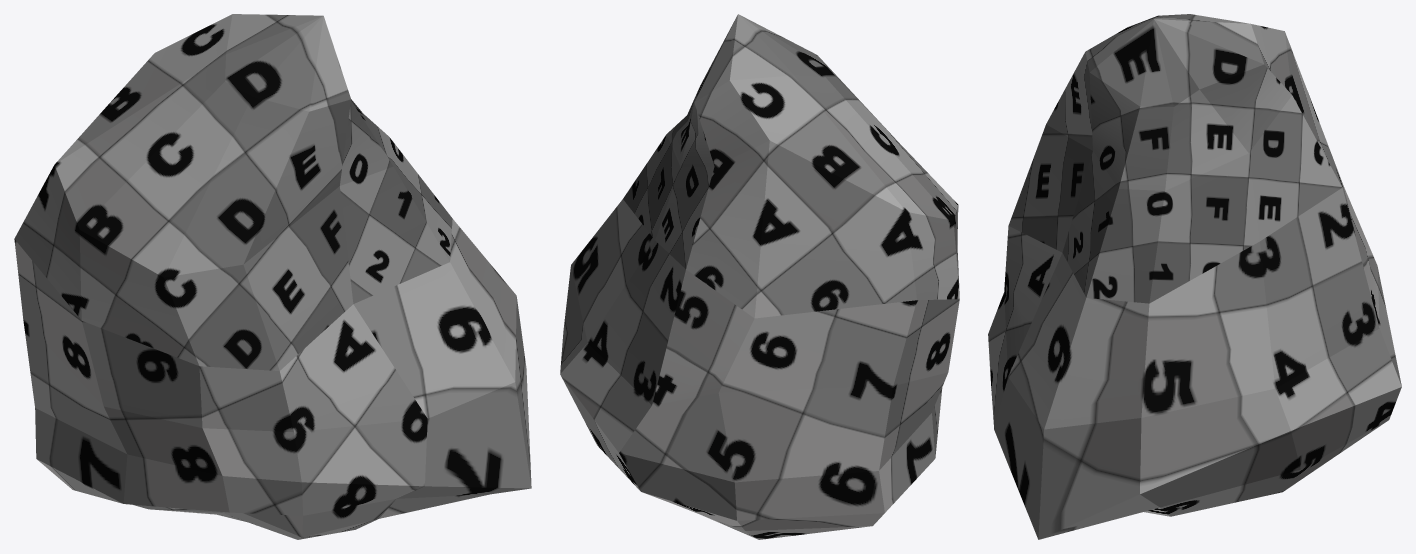
File: Rock1.fbx
The picture shows the model from 3 angles, left to right: view 1: azimuth 30°, elevation 25°; view 2: azimuth 150°, elevation 25°; view 3: azimuth 270°, elevation 25°; orthographic projection. The views are drawn at different scales.
Visible parts, largest first — view 1: Rock3; view 2: Rock3; view 3: Rock3.
Boxes of the visible parts, x1=… form: Rock3: x1=14, y1=14, x2=531, y2=539; Rock3: x1=560, y1=14, x2=959, y2=539; Rock3: x1=988, y1=14, x2=1401, y2=539.
Size of the model in its own units: 8.35 by 8.96 by 6.92.
1 material, 1 textured.
